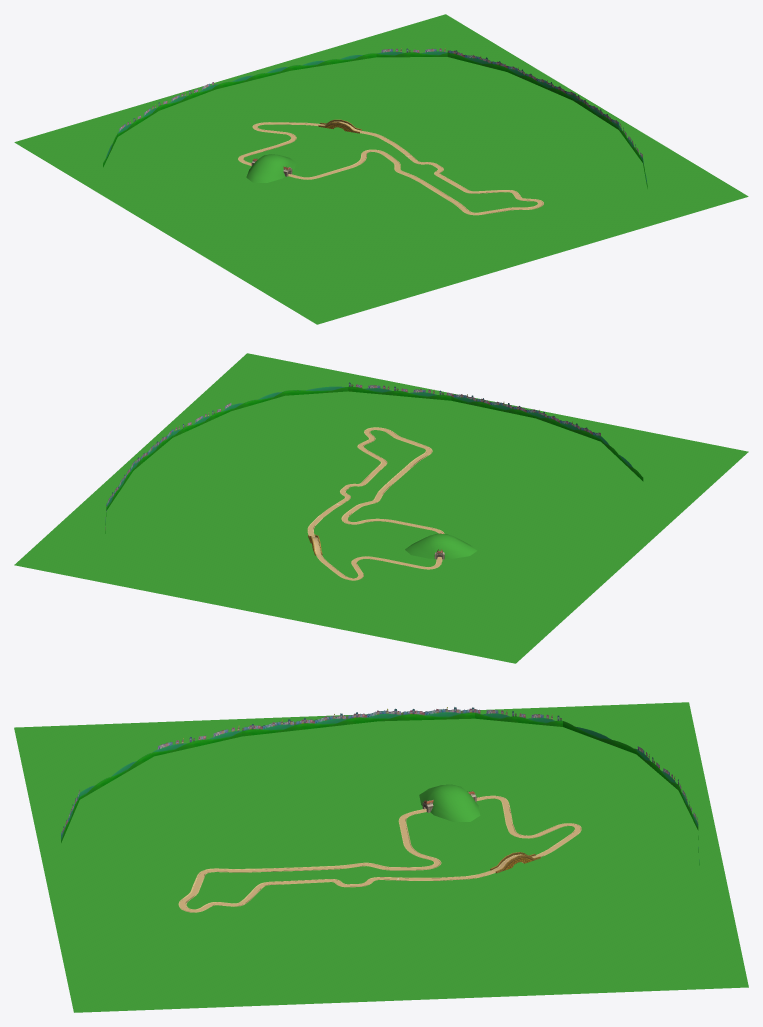
Rendered from urban_a.glb.
3 renders of one model, top to bottom at view 1: azimuth 30°, elevation 25°; view 2: azimuth 150°, elevation 25°; view 3: azimuth 270°, elevation 25°, orthographic. The views are drawn at different scales.
Visible parts, largest first — view 1: ground3, polySurface8, pSphere1; view 2: ground3, polySurface8, pSphere1; view 3: ground3, polySurface8, pSphere1.
Part boxes in pixels (<box>): ground3: <box>14,14,748,324</box>; polySurface8: <box>103,48,647,188</box>; pSphere1: <box>246,154,296,182</box>; ground3: <box>14,353,748,663</box>; polySurface8: <box>105,382,643,533</box>; pSphere1: <box>405,533,476,558</box>; ground3: <box>14,702,748,1012</box>; polySurface8: <box>61,707,699,865</box>; pSphere1: <box>419,784,480,821</box>.
Bounding box in the file's own units: 11723 × 605 × 11723.
Materials: 18 (18 with a texture image).
